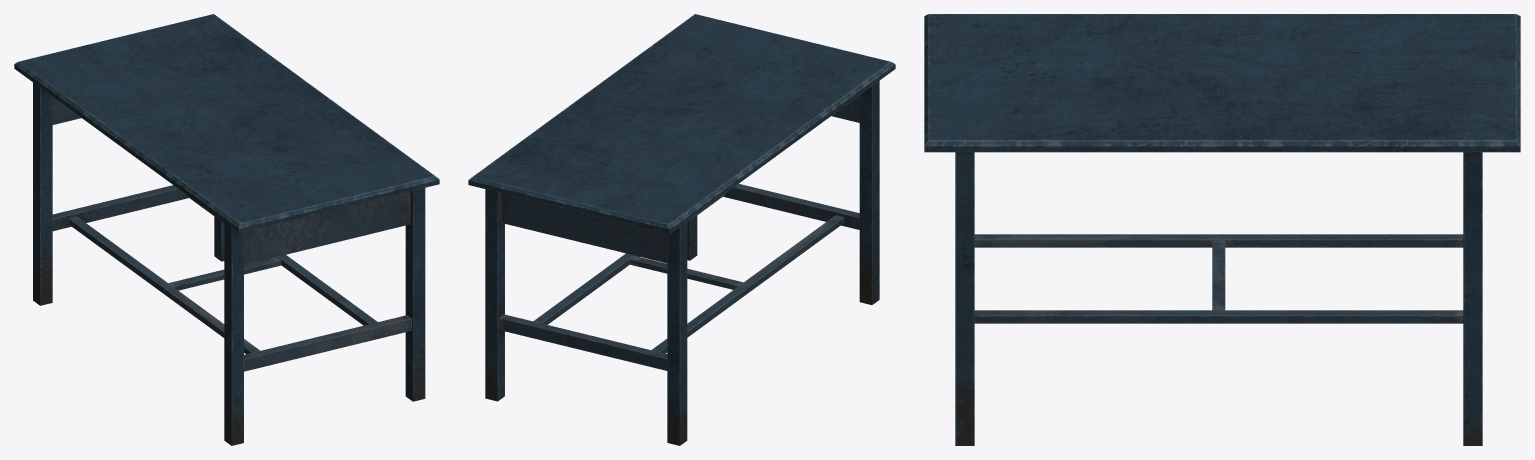
Rendered from Table.obj.
3 renders of one model, left to right at view 1: azimuth 30°, elevation 25°; view 2: azimuth 150°, elevation 25°; view 3: azimuth 270°, elevation 25°, orthographic. The views are drawn at different scales.
Parts seen in each view (by area): view 1: defaultMaterial_1; view 2: defaultMaterial_1; view 3: defaultMaterial_1.
Part boxes in pixels (bbox=[...]): defaultMaterial_1: bbox=[14, 14, 439, 445]; defaultMaterial_1: bbox=[468, 14, 895, 445]; defaultMaterial_1: bbox=[924, 14, 1520, 445].
Bounding box in the file's own units: 103 × 113 × 200.
